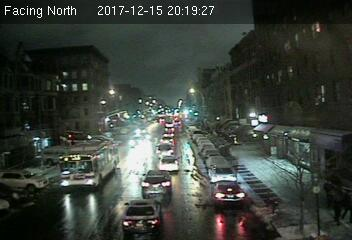bus: (56, 138, 119, 190)
car: (124, 198, 162, 232), (140, 170, 172, 197), (213, 182, 244, 206), (208, 164, 235, 181), (158, 155, 180, 170), (155, 142, 174, 156)
